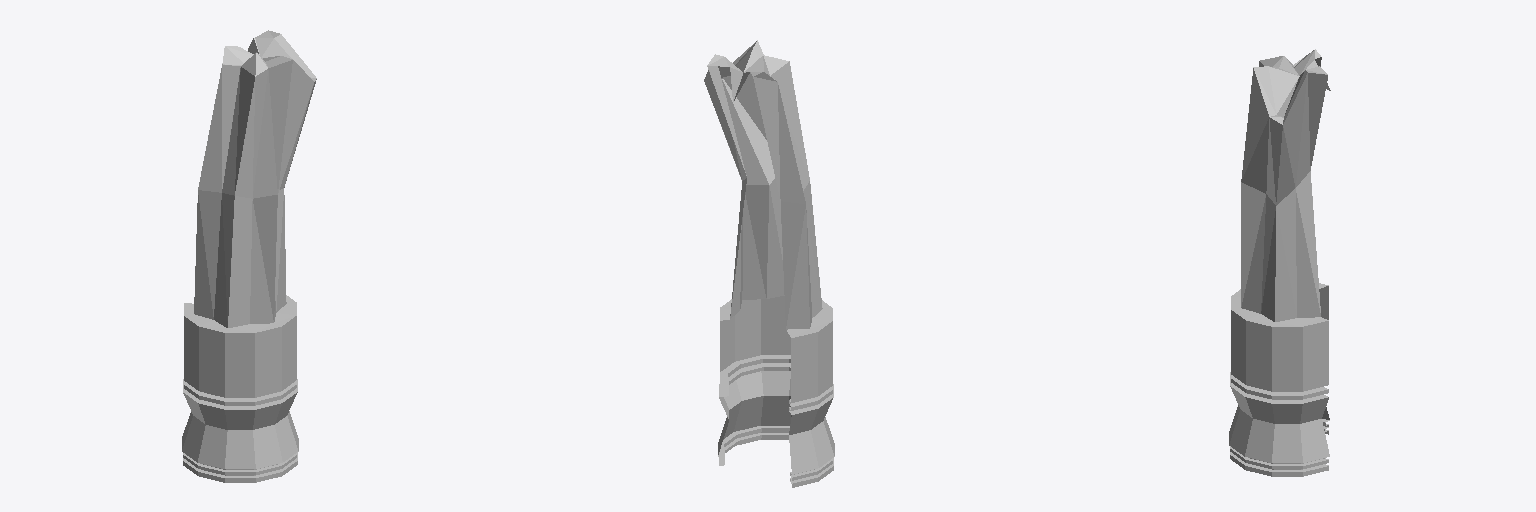
The model's file is pilierCasse2.obj.
3 views of the same model, side by side, from view 1: azimuth 30°, elevation 25°; view 2: azimuth 150°, elevation 25°; view 3: azimuth 270°, elevation 25° (orthographic).
Bounding box in the file's own units: 0.3529 × 1.09 × 0.2487.